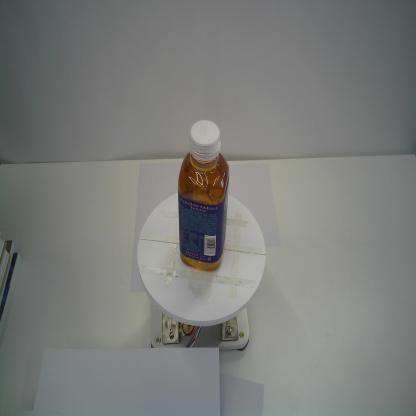Drink: (176, 119, 230, 273)
